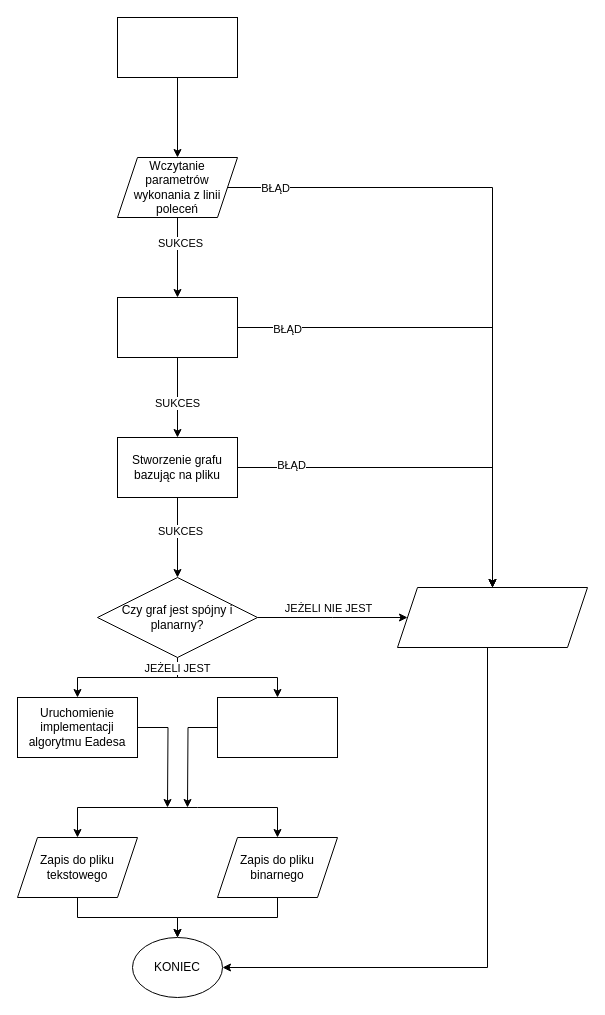
Image size: 605x1015. Some labels were removed from this diagram. The centre of each missing label's shape, as x and y in pixels:
Uruchomienie implementacji twierdzenia Tuttego: point (277, 727)
Uruchomienie programu: point (177, 47)
Wczytanie pliku z grafem: point (177, 327)
Wypisanie komunikatu błedu i zwrócenie kodu: point (492, 617)
